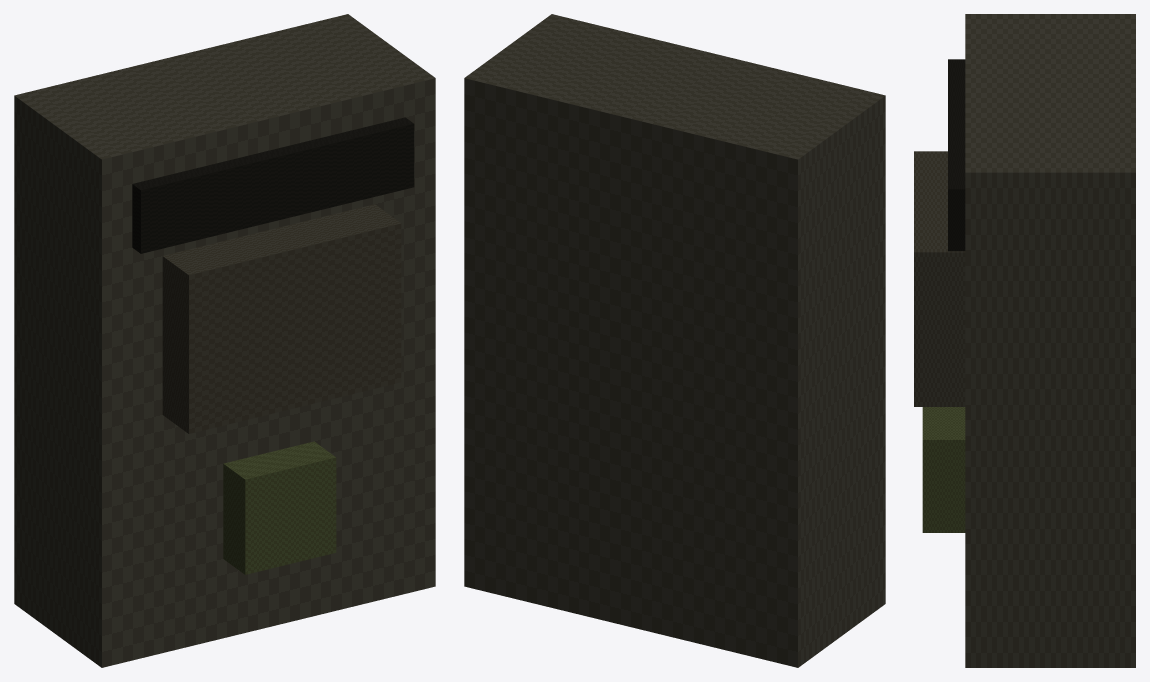
Rendered from prop_badge_reader.glb.
The picture shows the model from 3 angles, left to right: view 1: azimuth 30°, elevation 25°; view 2: azimuth 150°, elevation 25°; view 3: azimuth 270°, elevation 25°; orthographic projection. The views are drawn at different scales.
Parts seen in each view (by area): view 1: prop_badge_reader; view 2: prop_badge_reader; view 3: prop_badge_reader.
Part boxes in pixels (x1,y1,x2,y2): prop_badge_reader: (14,14,435,667); prop_badge_reader: (464,14,885,667); prop_badge_reader: (914,14,1135,667).
Bounding box in the file's own units: 0.22 × 0.32 × 0.13.
Materials: 1 (1 with a texture image).
